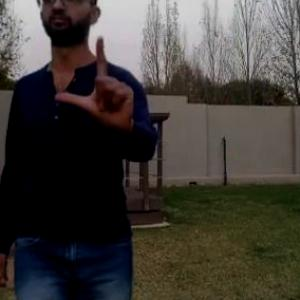land_hand: (55, 32, 137, 130)
